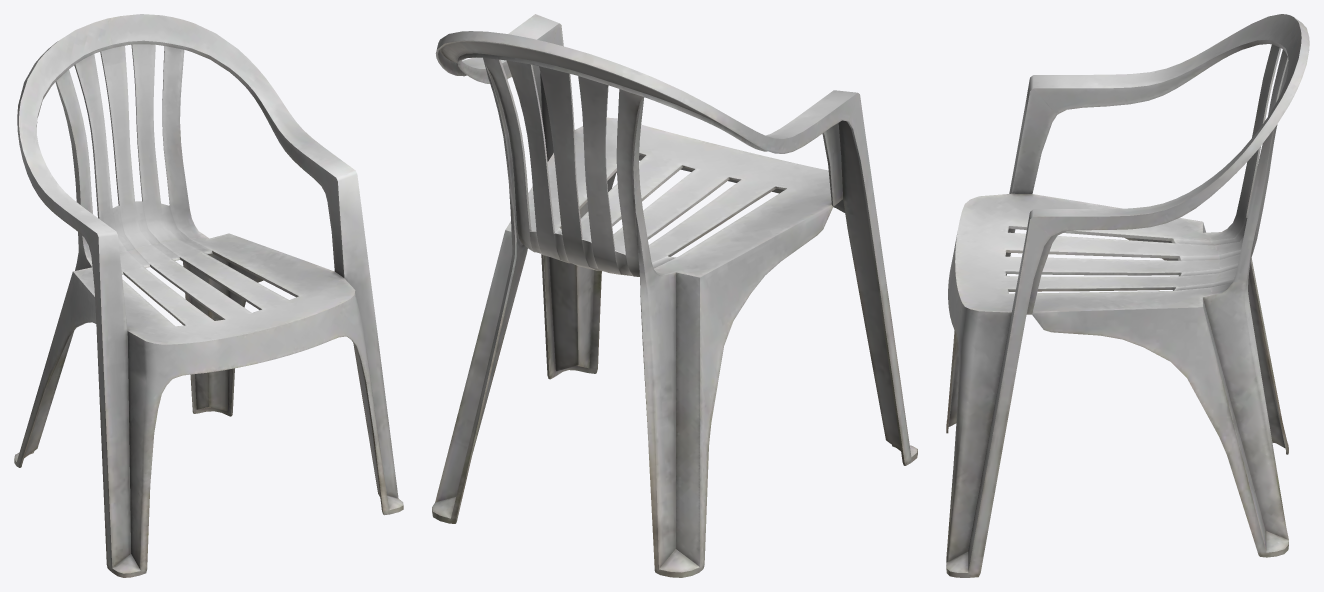
The model's file is plastic_monobloc_chair_01.glb.
The picture shows the model from 3 angles, left to right: view 1: azimuth 30°, elevation 25°; view 2: azimuth 150°, elevation 25°; view 3: azimuth 270°, elevation 25°; orthographic projection. The views are drawn at different scales.
Parts seen in each view (by area): view 1: plastic_monobloc_chair_01; view 2: plastic_monobloc_chair_01; view 3: plastic_monobloc_chair_01.
Boxes of the visible parts, x1,y1,x2,y2 form: plastic_monobloc_chair_01: [14, 14, 403, 577]; plastic_monobloc_chair_01: [432, 14, 917, 577]; plastic_monobloc_chair_01: [946, 14, 1309, 577].
Size of the model in its own units: 0.6418 by 0.8798 by 0.6276.
Materials: 1 (1 with a texture image).
